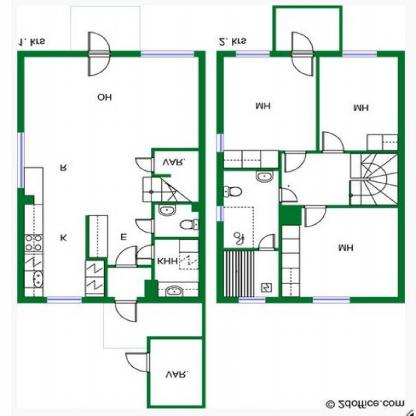door: (87, 31, 113, 78), (288, 32, 314, 78), (114, 294, 144, 324), (120, 350, 152, 375), (130, 240, 154, 264), (303, 203, 330, 224), (283, 148, 306, 172), (321, 132, 344, 153), (116, 245, 136, 269), (133, 215, 153, 235), (134, 157, 155, 175), (278, 186, 301, 201), (258, 232, 276, 248)
window: (139, 48, 194, 58), (17, 132, 25, 186), (342, 50, 377, 59), (47, 296, 81, 304), (313, 296, 350, 303), (236, 50, 270, 56), (238, 298, 268, 304), (214, 134, 224, 152), (216, 205, 223, 221)
zone: (24, 55, 200, 298), (285, 205, 397, 297), (225, 56, 314, 149), (320, 55, 397, 149), (280, 152, 398, 205), (223, 168, 276, 248), (151, 339, 201, 405), (276, 9, 340, 53), (152, 239, 198, 297), (223, 250, 279, 297), (154, 149, 200, 201), (154, 203, 202, 237), (110, 267, 151, 298)
